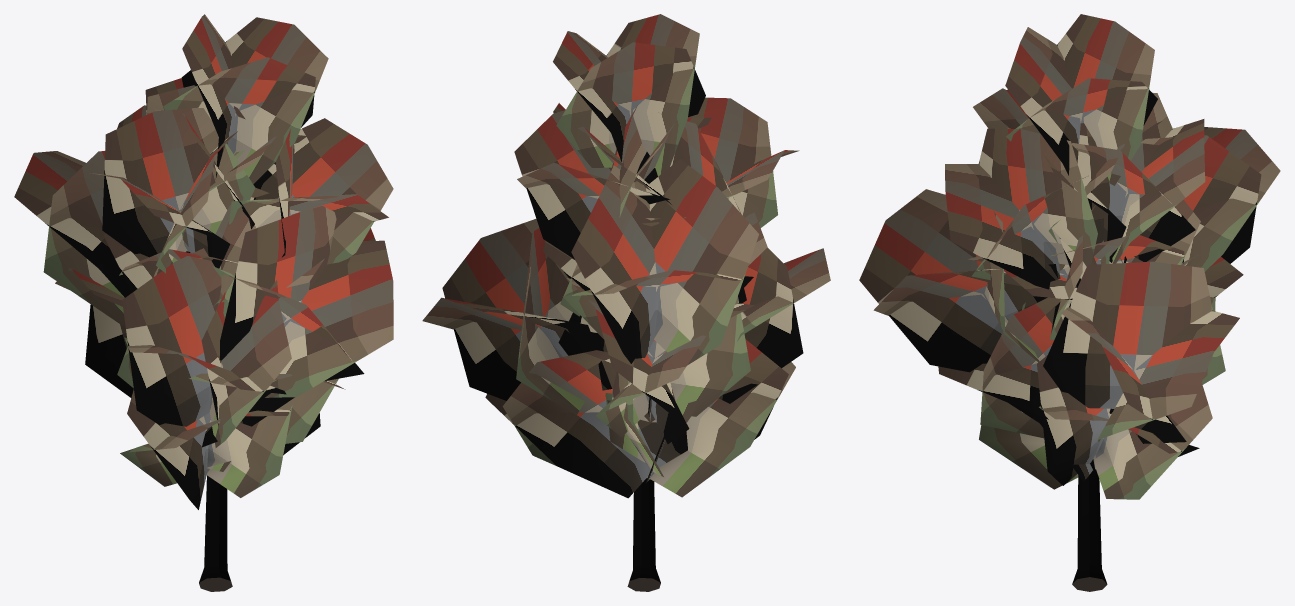
The model's file is SM_Tree_Birch_Small_01_LOD_01.fbx.
The picture shows the model from 3 angles, left to right: view 1: azimuth 30°, elevation 25°; view 2: azimuth 150°, elevation 25°; view 3: azimuth 270°, elevation 25°; orthographic projection.
Visible parts, largest first — view 1: SM_Tree_Birch_Small_01_LOD_01; view 2: SM_Tree_Birch_Small_01_LOD_01; view 3: SM_Tree_Birch_Small_01_LOD_01.
Boxes of the visible parts, left/top/right/bottom form: SM_Tree_Birch_Small_01_LOD_01: left=14, top=14, right=393, bottom=591; SM_Tree_Birch_Small_01_LOD_01: left=422, top=14, right=830, bottom=591; SM_Tree_Birch_Small_01_LOD_01: left=859, top=14, right=1280, bottom=591.
Bounding box in the file's own units: 117 × 188 × 127.
1 material, 1 textured.
